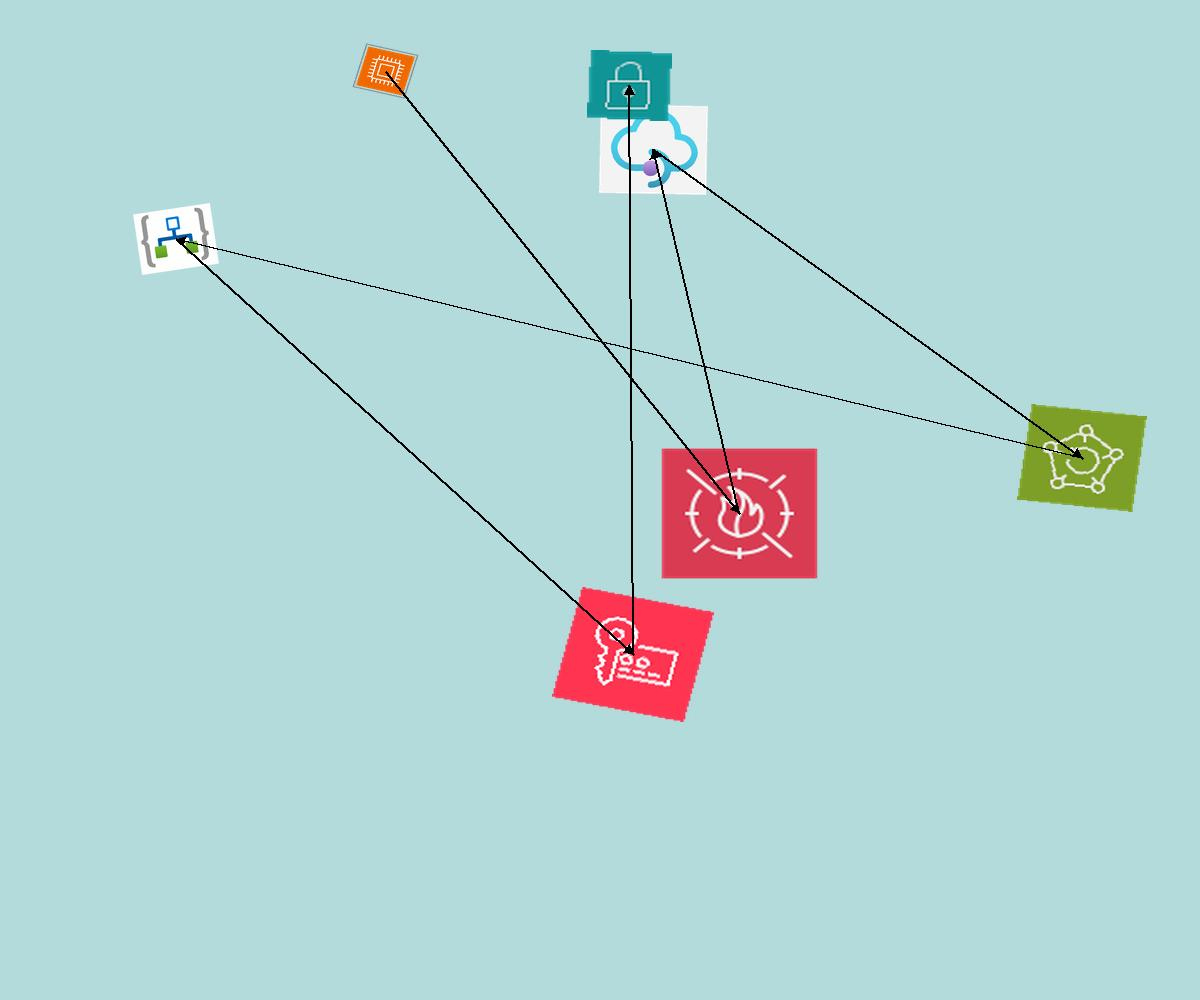AWS-Backup: (1017, 404, 1147, 512)
AWS-Category_Compute: (352, 43, 419, 99)
AWS-Key-Management-Service: (552, 587, 714, 722)
AWS-Private-subnet: (587, 50, 672, 121)
AWS-WAF: (660, 447, 819, 580)
Azure_api_gateway: (599, 104, 708, 195)
Azure_integration-204-Logic-Apps: (133, 203, 219, 275)
